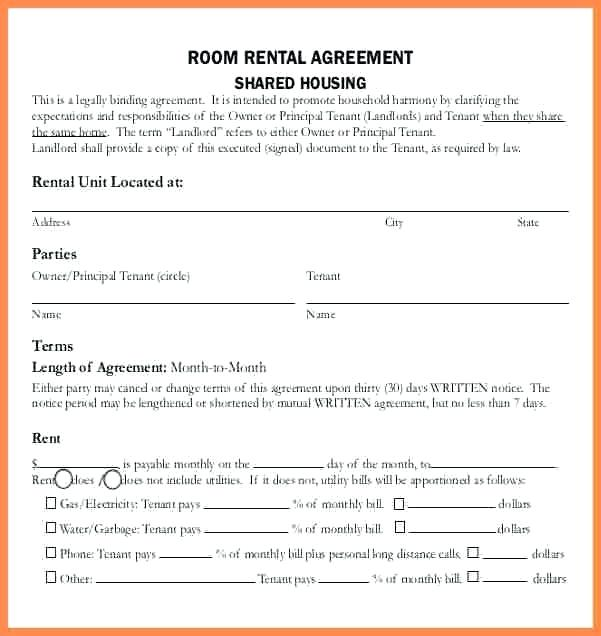checkbox: (97, 470, 128, 492), (47, 468, 76, 491), (465, 543, 482, 562), (463, 568, 482, 585), (43, 568, 59, 585), (392, 496, 408, 513), (43, 521, 59, 536), (391, 519, 407, 534), (44, 494, 57, 511), (44, 544, 58, 559)
textline: (28, 195, 573, 215), (299, 281, 573, 310), (24, 283, 298, 309), (95, 567, 257, 587), (428, 453, 563, 473), (29, 446, 121, 472), (407, 489, 497, 513), (203, 520, 291, 542), (204, 493, 293, 514), (248, 454, 325, 473), (154, 542, 214, 566), (406, 519, 495, 535), (317, 569, 369, 587), (483, 544, 530, 562), (481, 568, 530, 585)
